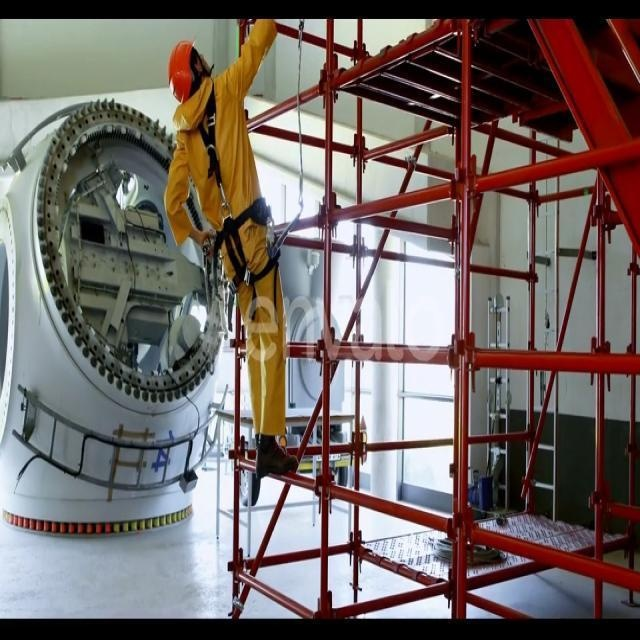Arnes_seguridad: (187, 80, 287, 313)
